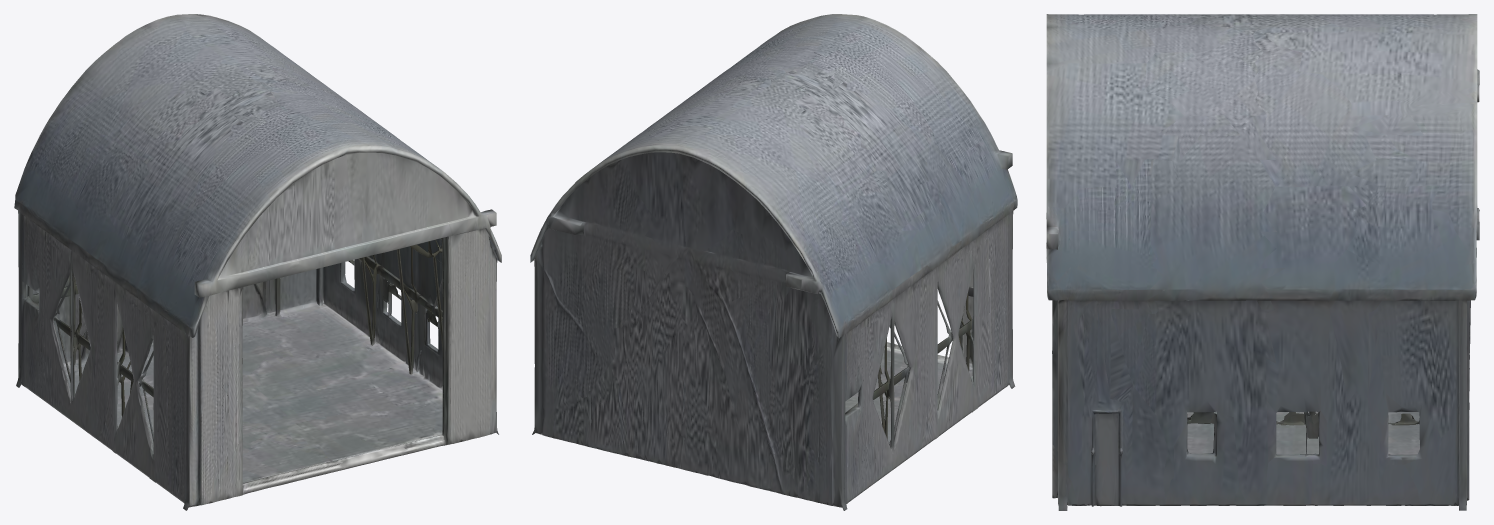
File: aero_hangar.glb
3 renders of one model, left to right at view 1: azimuth 30°, elevation 25°; view 2: azimuth 150°, elevation 25°; view 3: azimuth 270°, elevation 25°, orthographic. The views are drawn at different scales.
Parts seen in each view (by area): view 1: tripo_node_5b86ebf6-5324-446d-b6f5-6761c2185e1c; view 2: tripo_node_5b86ebf6-5324-446d-b6f5-6761c2185e1c; view 3: tripo_node_5b86ebf6-5324-446d-b6f5-6761c2185e1c.
Part boxes in pixels (bbox=[...]): tripo_node_5b86ebf6-5324-446d-b6f5-6761c2185e1c: bbox=[14, 14, 501, 510]; tripo_node_5b86ebf6-5324-446d-b6f5-6761c2185e1c: bbox=[530, 14, 1017, 510]; tripo_node_5b86ebf6-5324-446d-b6f5-6761c2185e1c: bbox=[1046, 14, 1479, 510].
Size of the model in its own units: 1 by 1 by 1.
1 material, 1 textured.
